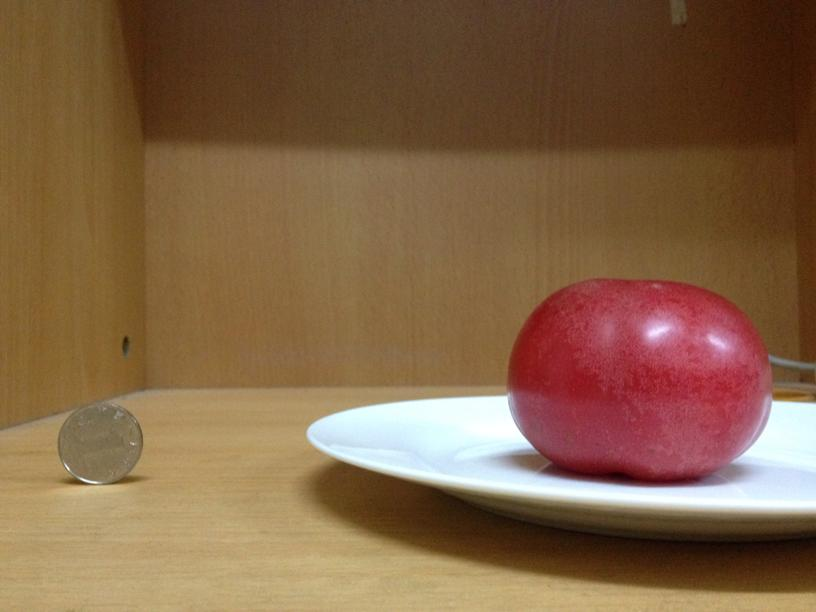coin: (50, 403, 146, 486)
tomato: (505, 280, 779, 481)
